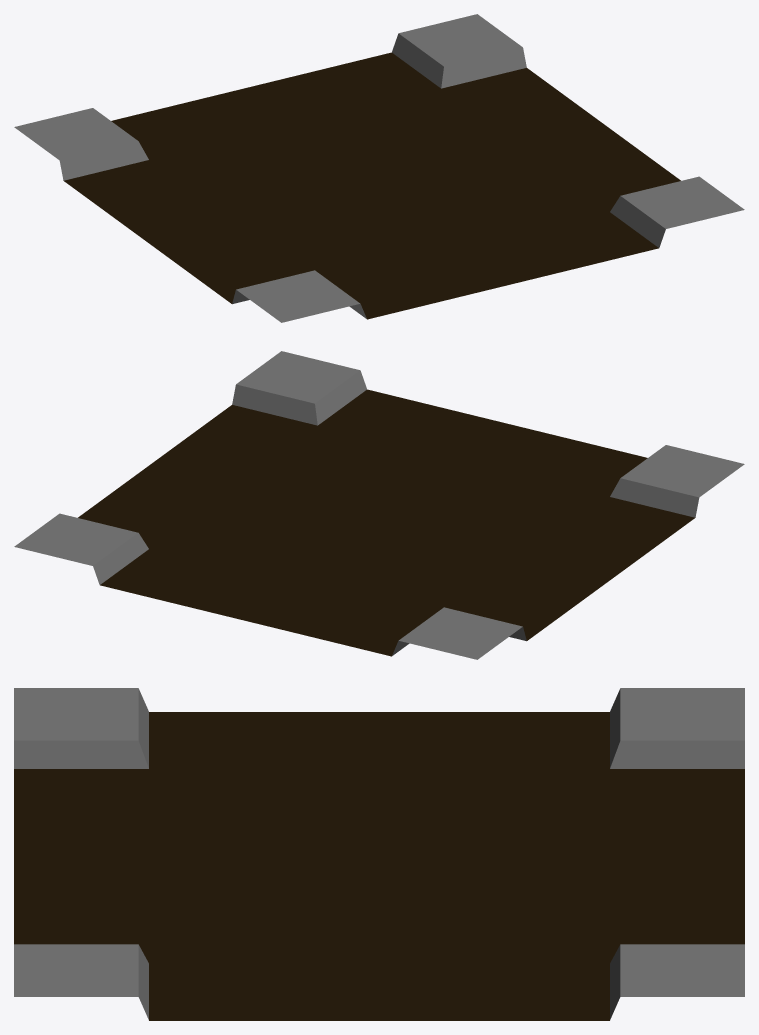
Rendered from bridge_crossway_mesh.fbx.
3 renders of one model, top to bottom at view 1: azimuth 30°, elevation 25°; view 2: azimuth 150°, elevation 25°; view 3: azimuth 270°, elevation 25°, orthographic. The views are drawn at different scales.
Parts seen in each view (by area): view 1: bridge_crossway_mesh; view 2: bridge_crossway_mesh; view 3: bridge_crossway_mesh.
Part boxes in pixels (x1,y1,x2,y2): bridge_crossway_mesh: (14,14,744,322); bridge_crossway_mesh: (14,351,744,659); bridge_crossway_mesh: (14,688,744,1020).
Size of the model in its own units: 1 by 0.0361 by 1.
